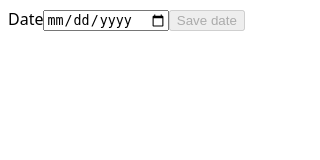
Scenario: PlanDate › disables Save date while the input holds no date
The width and height of the screenshot is (320, 160).
expect the button "Save date" is disabled: met, box [169, 10, 245, 31]
Type "2026-11-20" into the date field labelled "Date". click: [106, 20]
box: [44, 10, 169, 31]
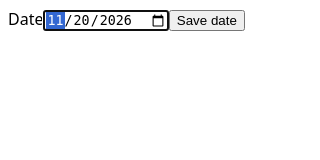
expect the button "Save date" is enabled: met, box [169, 10, 245, 31]
Clear the date field labelled "Date". click: [106, 20]
box: [44, 10, 169, 31]
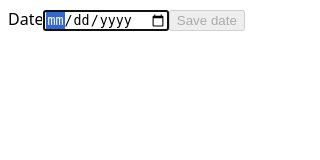
expect the button "Save date" is disabled: met, box [169, 10, 245, 31]
